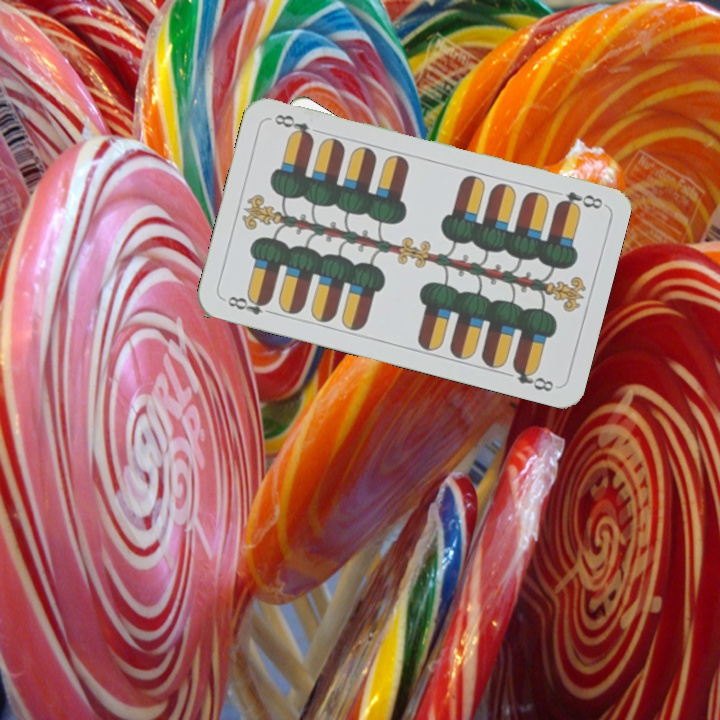E8: (223, 291, 278, 318), (552, 187, 606, 213)
